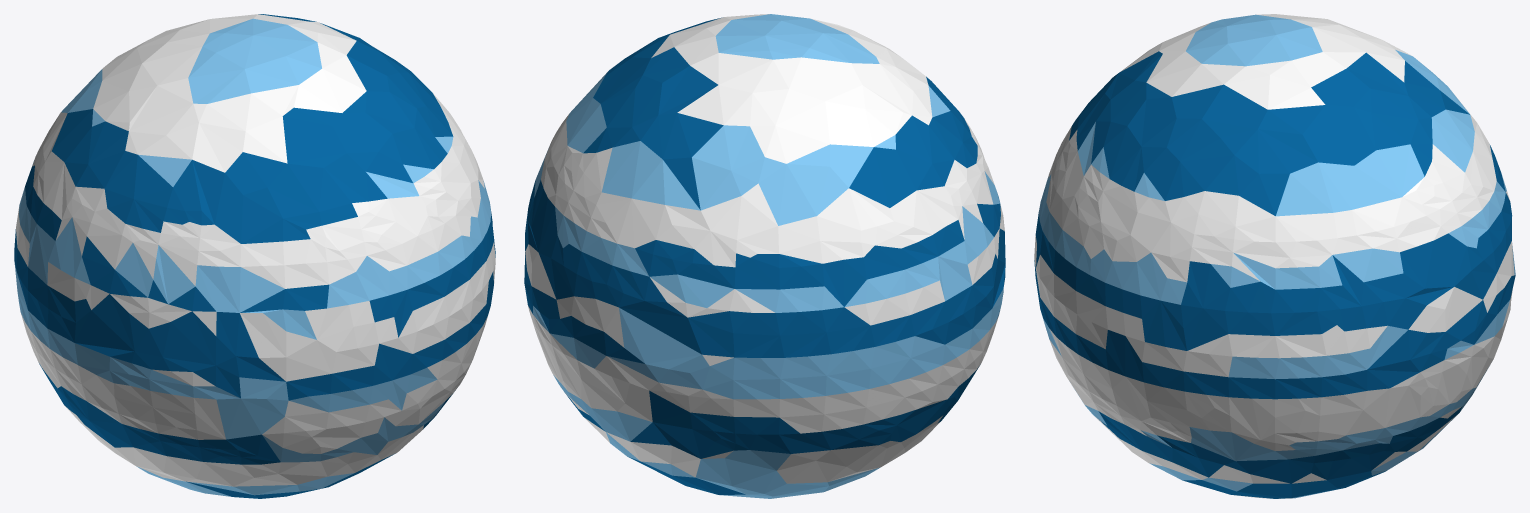
The model's file is Neptune.glb.
3 views of the same model, side by side, from view 1: azimuth 30°, elevation 25°; view 2: azimuth 150°, elevation 25°; view 3: azimuth 270°, elevation 25° (orthographic).
Visible parts, largest first — view 1: Sphere002; view 2: Sphere002; view 3: Sphere002.
Part boxes in pixels (bbox=[...]): Sphere002: bbox=[14, 14, 495, 498]; Sphere002: bbox=[524, 14, 1005, 498]; Sphere002: bbox=[1034, 14, 1515, 498].
Bounding box in the file's own units: 53.46 × 54.05 × 53.38.
